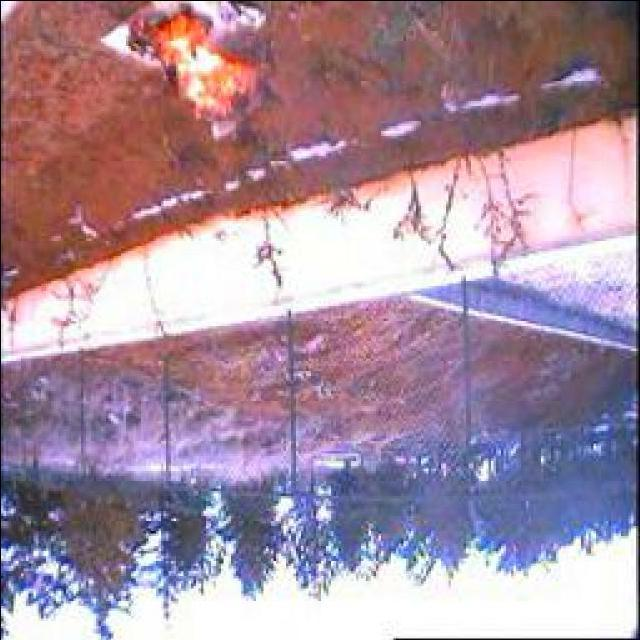Fire: (122, 0, 276, 140)
